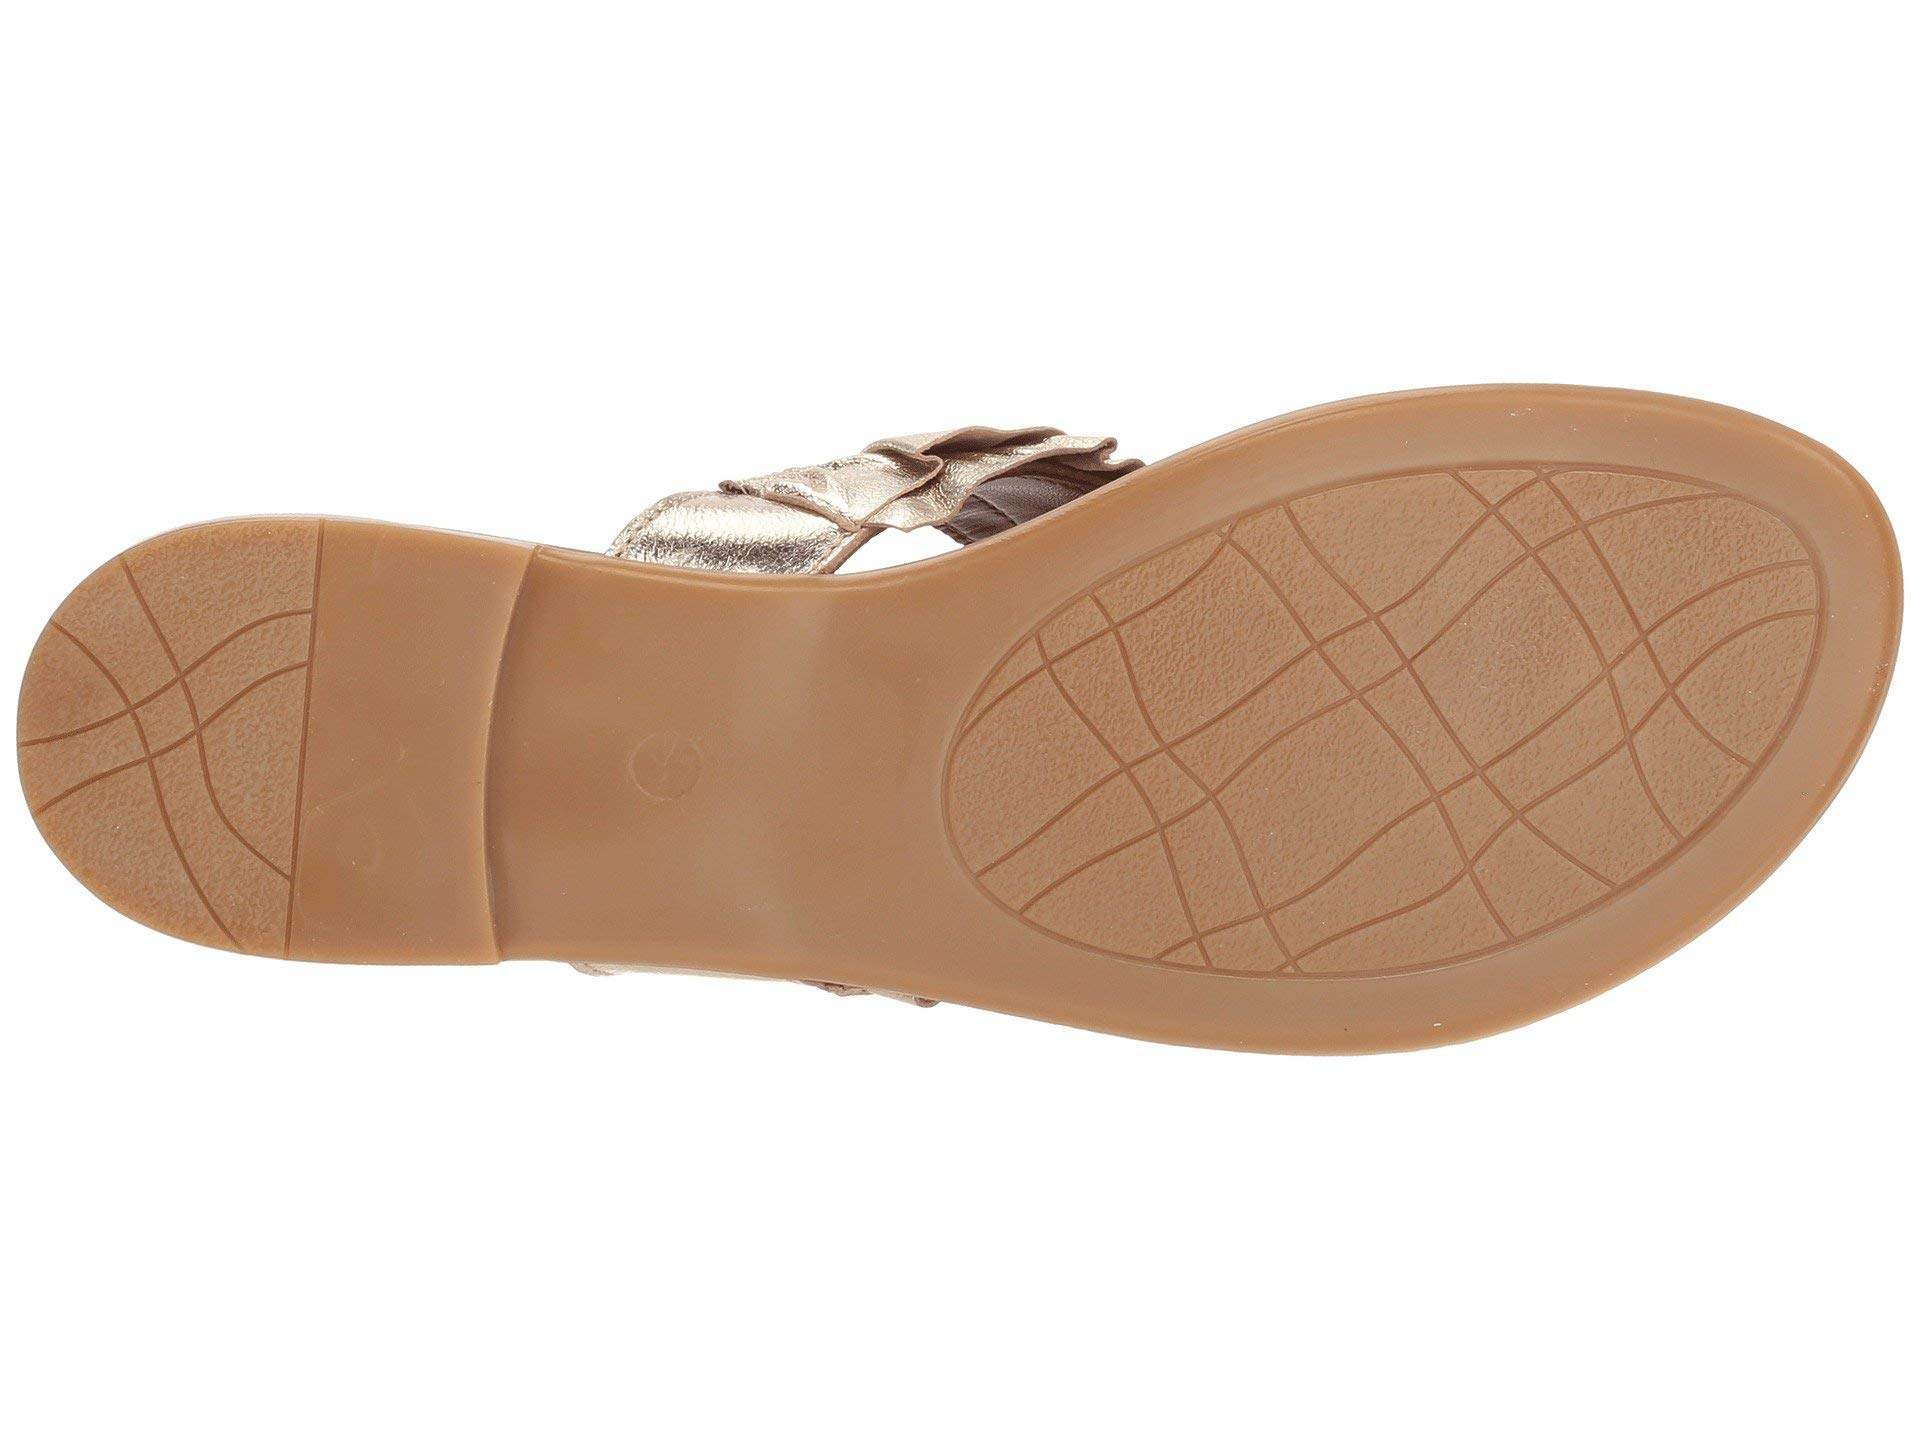circle: (576, 705, 735, 812)
line: (1169, 499, 1639, 900), (79, 597, 269, 885)
quad: (1169, 499, 1639, 900), (79, 597, 269, 885)
